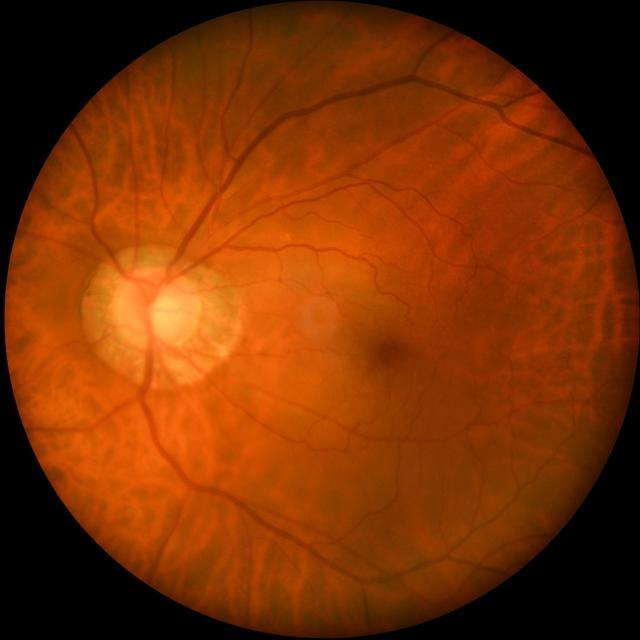OC: (146, 288, 184, 340)
OD: (110, 265, 202, 353)
